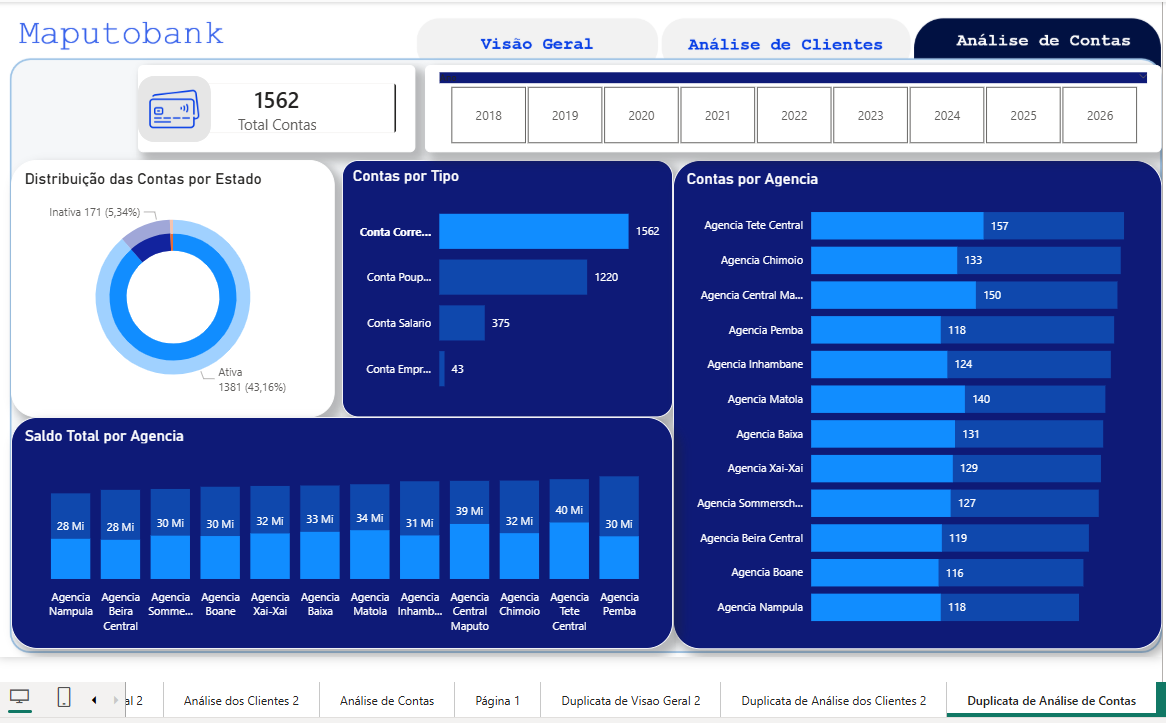

This screenshot's page, from the dashboard's own definition file:
{"tool":"powerbi","page":{"name":"Análise de Contas","canvas":[1280,720],"ordinal":2},"visuals":[{"type":"cardVisual","fields":{"Data":["dim_contas.Total Contas"]},"box":[154,69.3,304.6,95.7],"z":0},{"type":"donutChart","title":"Distribuição das Contas por Estado","fields":{"Category":["dim_contas.status"],"Y":["CountNonNull(dim_contas.id_conta)"]},"box":[14.3,173.7,361.8,282.6],"z":1000},{"type":"barChart","title":"Contas por Tipo","fields":{"Category":["dim_tipos_contas.nome_tipo"],"Y":["CountNonNull(dim_contas.id_conta)"]},"box":[378.3,173.7,364,282.6],"z":2000},{"type":"barChart","title":"Contas por Agencia","fields":{"Category":["dim_agencias.nome_agencia"],"Y":["CountNonNull(dim_contas.id_conta)"]},"box":[742.3,173.7,537.7,537.7],"z":3000},{"type":"slicer","fields":{"Values":["dim_contas.data_abertura.Variation.Hierarquia de datas.Ano"]},"box":[469.6,78.1,810.4,95.7],"z":4000},{"type":"columnChart","title":"Saldo Total por Agencia ","fields":{"Category":["dim_agencias.nome_agencia"],"Y":["dim_contas.Saldo Total por Agencia"]},"box":[14.3,456.4,728,255.1],"z":5000},{"type":"shape","box":[154,81.4,80.3,72.6],"z":6000},{"type":"image","box":[158.4,90.2,71.5,55],"z":7000},{"type":"actionButton","box":[741.2,22,252.9,42.9],"z":7001},{"type":"actionButton","box":[469.6,22,247.4,42.9],"z":7002}]}

Visuals, with their boxes in screenshot pixels (x1, y1, x2, y2):
cardVisual - dim_contas.Total Contas: (141, 68, 415, 154)
"Distribuição das Contas por Estado" donutChart: (16, 162, 341, 416)
"Contas por Tipo" barChart: (343, 162, 670, 416)
"Contas por Agencia" barChart: (670, 162, 1153, 645)
slicer - dim_contas.data_abertura.Variation.Hierarquia de datas.Ano: (425, 76, 1153, 162)
"Saldo Total por Agencia " columnChart: (16, 416, 670, 645)
shape: (141, 79, 214, 144)
image: (145, 87, 210, 137)
actionButton: (669, 26, 896, 64)
actionButton: (425, 26, 647, 64)
